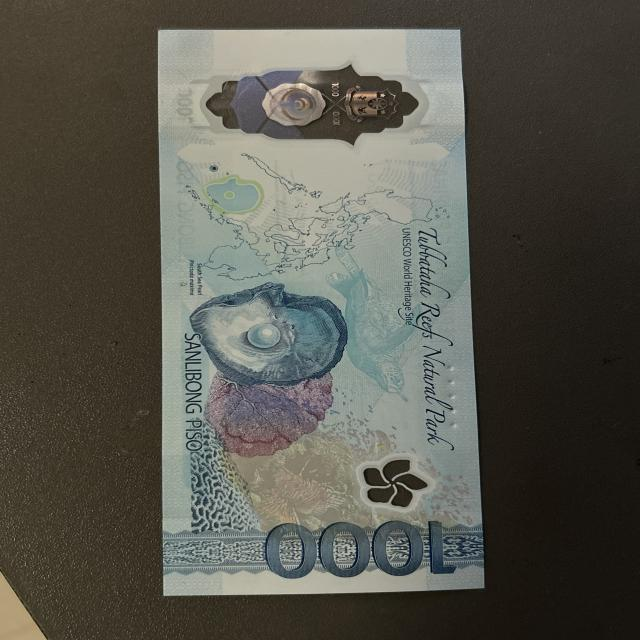clear_window: (190, 61, 423, 146)
sampaguita: (354, 455, 438, 511)
value: (256, 519, 459, 581)
